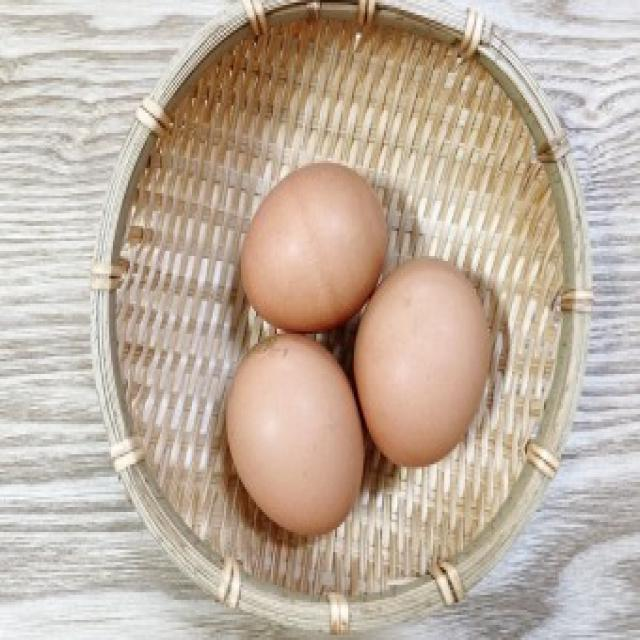eggs: (349, 256, 491, 471), (223, 336, 369, 534), (236, 161, 394, 337)
